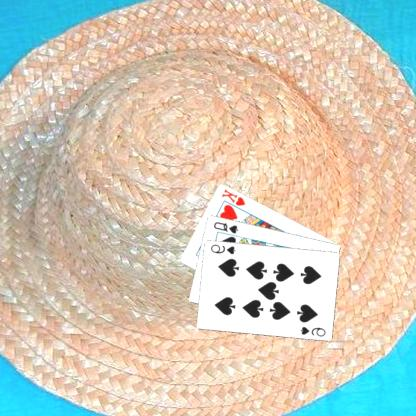9S: (209, 241, 239, 255), (299, 324, 329, 338)
KH: (221, 186, 248, 206)
QS: (213, 219, 241, 234)
